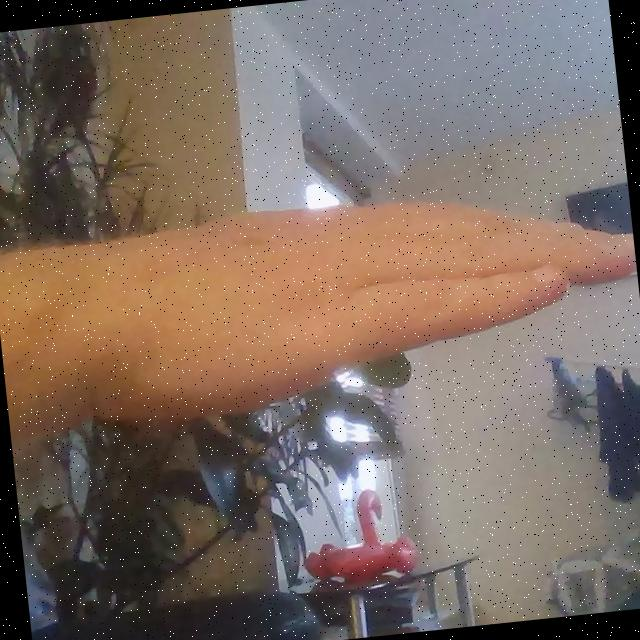papper: (31, 160, 640, 449)
